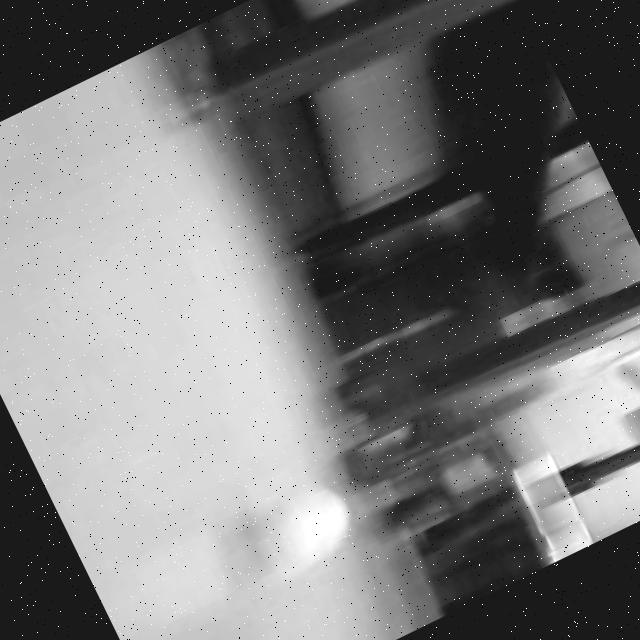ping-pong-ball: (218, 461, 368, 601)
